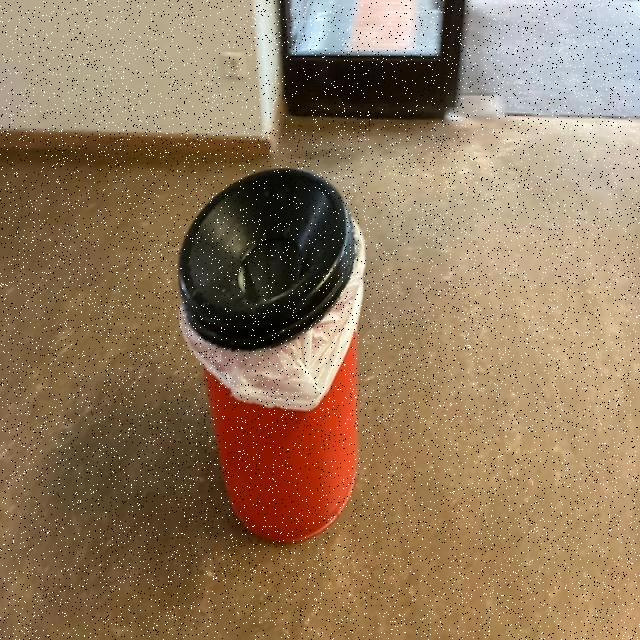garbage container: (164, 123, 383, 582)
